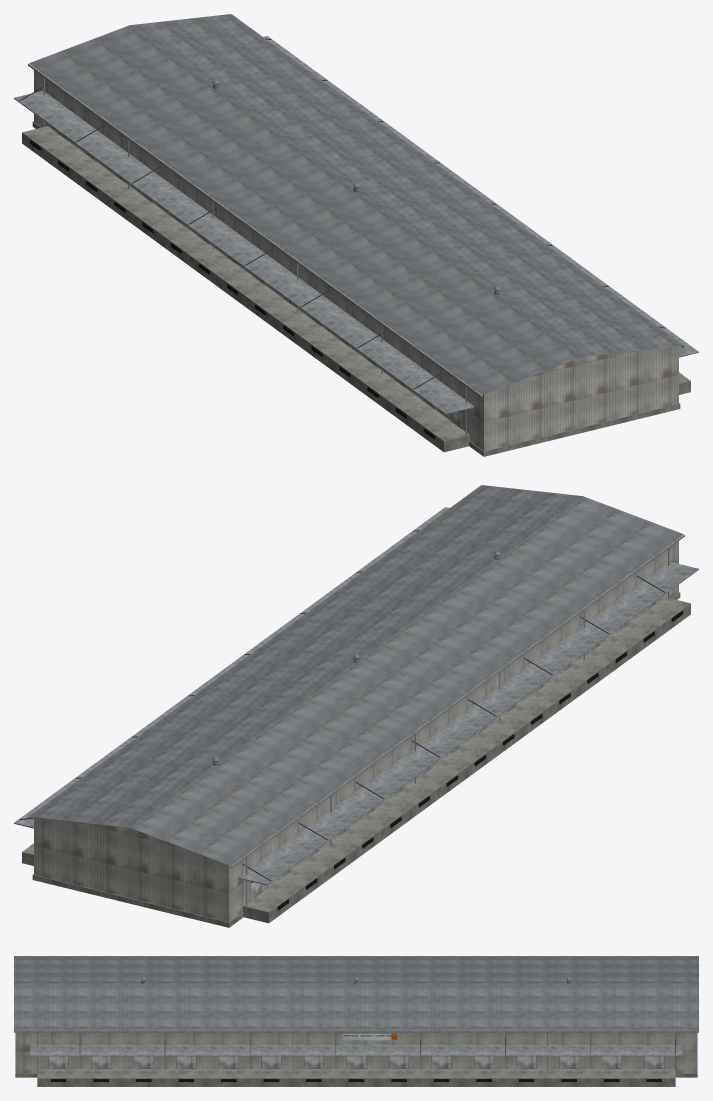
The model's file is wh_ramp.glb.
The picture shows the model from 3 angles, top to bottom: view 1: azimuth 30°, elevation 25°; view 2: azimuth 150°, elevation 25°; view 3: azimuth 270°, elevation 25°; orthographic projection. The views are drawn at different scales.
Parts seen in each view (by area): view 1: body|props; view 2: body|props; view 3: body|props.
Boxes of the visible parts, x1,y1,x2,y2 form: body|props: (14, 14, 698, 456); body|props: (14, 485, 698, 927); body|props: (14, 956, 698, 1086).
Bounding box in the file's own units: 31.2 × 9.9 × 96.6.
Materials: 1 (1 with a texture image).
